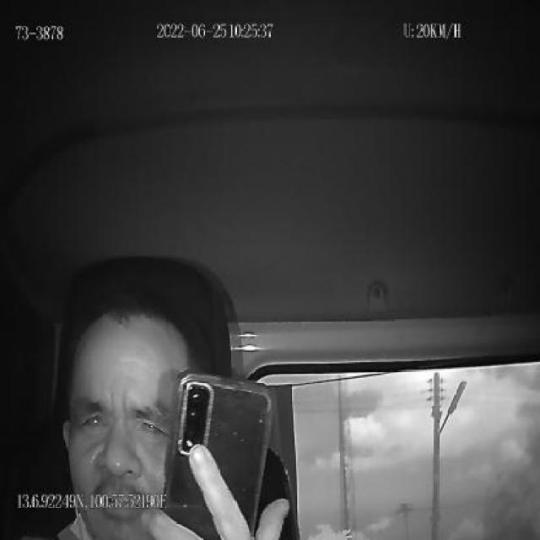phone: (162, 368, 277, 540)
